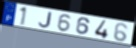1: (19, 7, 28, 26)
4: (94, 19, 109, 40)
6: (113, 22, 129, 43), (57, 13, 72, 33), (76, 17, 91, 35)
J: (38, 12, 53, 29)
